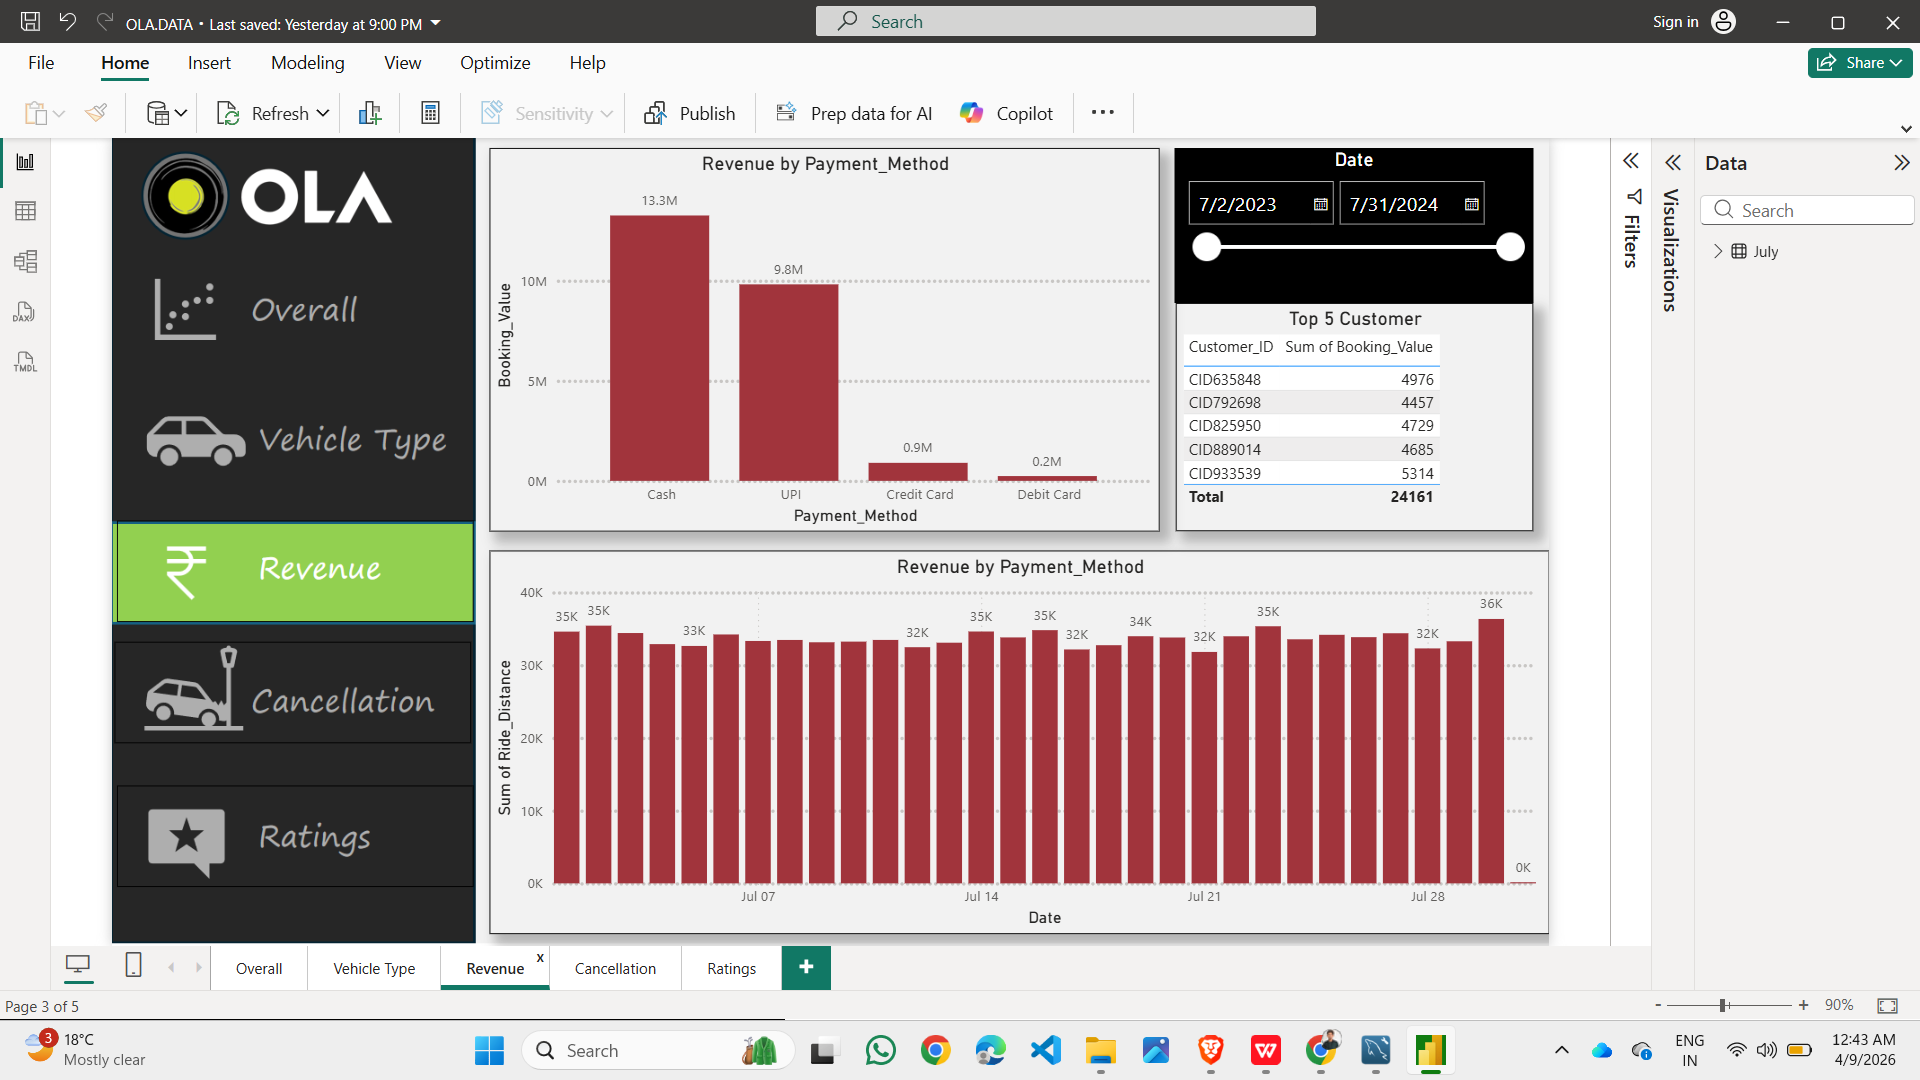

What the dashboard file says about the page in this screenshot:
{"tool":"powerbi","page":{"name":"Revenue","canvas":[1280,720],"ordinal":2},"visuals":[{"type":"actionButton","box":[0,222.2,322.2,90],"z":0},{"type":"actionButton","box":[4.4,341.1,317.8,90],"z":1000},{"type":"actionButton","box":[2.2,448.9,317.8,90],"z":2000},{"type":"actionButton","box":[4.4,576.7,317.8,90],"z":3000},{"type":"actionButton","box":[0,115.6,325.6,90],"z":4000},{"type":"columnChart","title":"Revenue by Payment_Method","fields":{"Y":["Sum(July.Booking_Value)"],"Category":["July.Payment_Method"]},"box":[335.7,8.6,597.1,341.4],"z":5000},{"type":"columnChart","title":"Revenue by Payment_Method","fields":{"Y":["Sum(July.Ride_Distance)"],"Category":["July.Date"]},"box":[335.7,367.1,944.3,341.4],"z":6000},{"type":"tableEx","title":"Top 5 Customer","fields":{"Values":["July.Customer_ID","Sum(July.Booking_Value)"]},"box":[947.1,147.1,318.6,202.9],"z":7000},{"type":"slicer","title":"Date","fields":{"Values":["July.Date"]},"box":[946.7,8.9,318.9,137.8],"z":8000}]}

Visuals, with their boxes on the page's 1280x720 design canvas (x1, y1, x2, y2). These are canvas units, not pixel positions in the 1920x1080 screenshot, which may show the page scaled, cropped or inside an application window:
actionButton: [0, 222, 322, 312]
actionButton: [4, 341, 322, 431]
actionButton: [2, 449, 320, 539]
actionButton: [4, 577, 322, 667]
actionButton: [0, 116, 326, 206]
"Revenue by Payment_Method" columnChart: [336, 9, 933, 350]
"Revenue by Payment_Method" columnChart: [336, 367, 1280, 708]
"Top 5 Customer" tableEx: [947, 147, 1266, 350]
"Date" slicer: [947, 9, 1266, 147]
